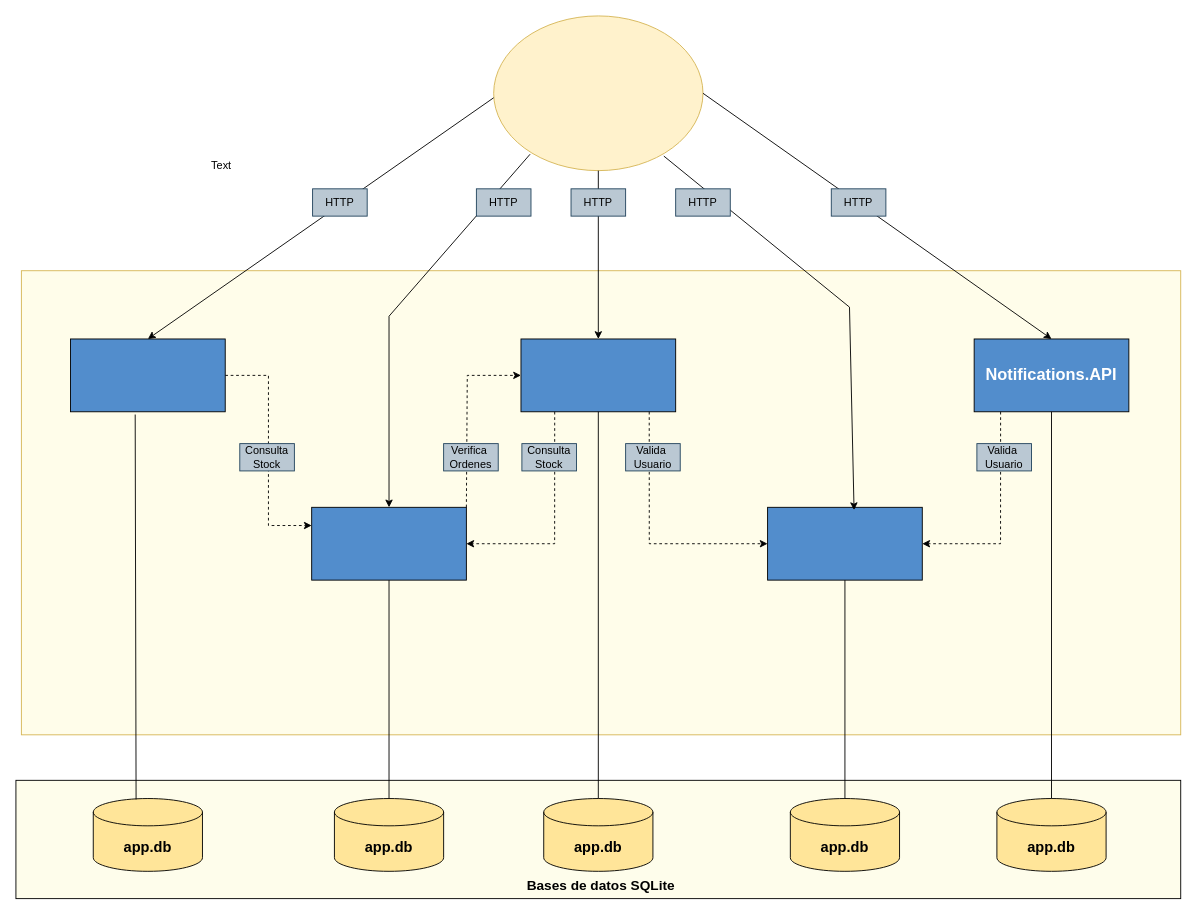
Some shapes in this 1197 by 915 pixel diagram are drawn without their labels. The shapes that lost their labels are listed below. From the top down, each one's centre as x and y in pixels, then its label:
At point (598, 93): "Swagger UI / Cliente".
At point (147, 375): "Cart.API".
At point (598, 375): "Orders.API".
At point (388, 543): "Products.API".
At point (844, 543): "Users.API".
